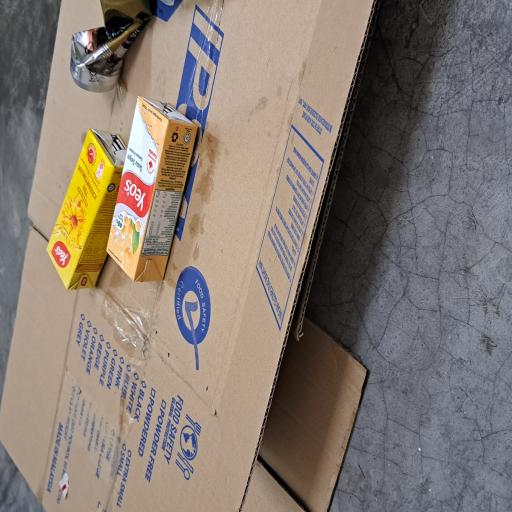can: (314, 94, 384, 208)
cardboard: (0, 0, 384, 506)
drink carton: (171, 141, 313, 264), (168, 62, 288, 168)
